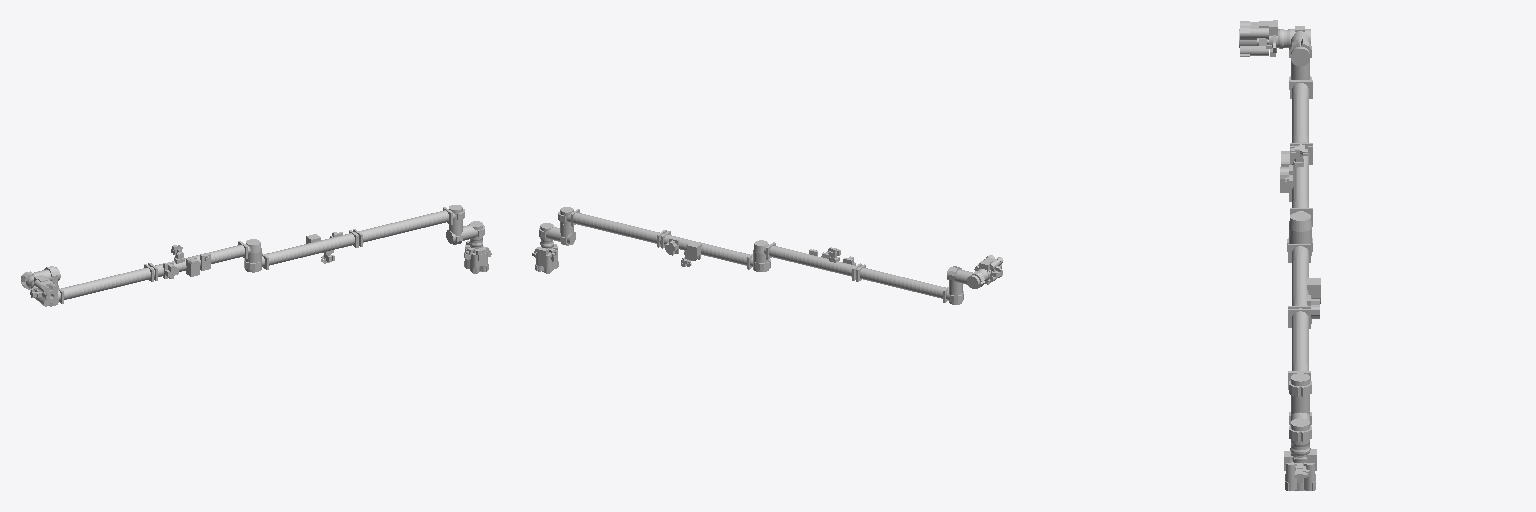
URDF robot description (CanadaArm2):
<?xml version="1.0" ?>
<robot name="CanadaArm2">

<!-- <material name="silver">
  <color rgba="0.700 0.700 0.700 1.000"/>
</material> -->

<link name="base_link">
  <inertial>
    <origin xyz="0.0009130959925412204 0.0006901136348603008 0.048208102763051236" rpy="0 0 0"/>
    <mass value="0.4237059895243373"/>
    <inertia ixx="0.0004092558945447719" iyy="0.00038404682501675465" izz="0.00020498064476976336" ixy="1.0165623829686665e-06" iyz="-4.948051807267175e-06" ixz="5.252636199371172e-06"/>
  </inertial>
  <visual>
    <origin xyz="0 0 0" rpy="0 0 0"/>
    <geometry>
      <mesh filename="package://canadarm2_description/meshes/base_link.dae" scale="0.001 0.001 0.001"/>
    </geometry>
    <!-- <material name="silver"/>
    <material/> -->
  </visual>
  <collision>
    <origin xyz="0 0 0" rpy="0 0 0"/>
    <geometry>
      <mesh filename="package://canadarm2_description/meshes/base_link.dae" scale="0.001 0.001 0.001"/>
    </geometry>
  </collision>
</link>

<link name="link_11">
  <inertial>
    <origin xyz="-0.012022080753456956 4.504438460746928e-06 0.021223287586985842" rpy="0 0 0"/>
    <mass value="0.15579058238581803"/>
    <inertia ixx="3.953363265274531e-05" iyy="8.371424973176991e-05" izz="8.6186782326062e-05" ixy="-1.0861613912698858e-07" iyz="4.379138446979421e-08" ixz="1.0201639682170562e-07"/>
  </inertial>
  <visual>
    <origin xyz="0.0 0.0 -0.109328" rpy="0 0 0"/>
    <geometry>
      <mesh filename="package://canadarm2_description/meshes/link_11.dae" scale="0.001 0.001 0.001"/>
    </geometry>
    <!-- <material name="silver"/>
    <material/> -->
  </visual>
  <collision>
    <origin xyz="0.0 0.0 -0.109328" rpy="0 0 0"/>
    <geometry>
      <mesh filename="package://canadarm2_description/meshes/link_11.dae" scale="0.001 0.001 0.001"/>
    </geometry>
  </collision>
</link>

<link name="link_21">
  <inertial>
    <origin xyz="-0.0212722329621534 -9.563785822951881e-07 0.012022116937095928" rpy="0 0 0"/>
    <mass value="0.15579021759009612"/>
    <inertia ixx="8.648943169675899e-05" iyy="8.429241934648085e-05" izz="3.9871128569710134e-05" ixy="1.9888566181498303e-08" iyz="4.4424194576562314e-09" ixz="-1.110155253675714e-07"/>
  </inertial>
  <visual>
    <origin xyz="0.050762 0.0 -0.130583" rpy="0 0 0"/>
    <geometry>
      <mesh filename="package://canadarm2_description/meshes/link_21.dae" scale="0.001 0.001 0.001"/>
    </geometry>
    <!-- <material name="silver"/>
    <material/> -->
  </visual>
  <collision>
    <origin xyz="0.050762 0.0 -0.130583" rpy="0 0 0"/>
    <geometry>
      <mesh filename="package://canadarm2_description/meshes/link_21.dae" scale="0.001 0.001 0.001"/>
    </geometry>
  </collision>
</link>

<link name="link_31">
  <inertial>
    <origin xyz="-0.3749592721242768 0.002167756136316175 0.020769052806213523" rpy="0 0 0"/>
    <mass value="1.342026213015195"/>
    <inertia ixx="0.0002589122773568181" iyy="0.06733252361597064" izz="0.06717431030885213" ixy="0.00018694044664734608" iyz="4.2211290964140266e-05" ixz="0.00020571069959553212"/>
  </inertial>
  <visual>
    <origin xyz="0.072005 0.0 -0.181344" rpy="0 0 0"/>
    <geometry>
      <mesh filename="package://canadarm2_description/meshes/link_31.dae" scale="0.001 0.001 0.001"/>
    </geometry>
    <!-- <material name="silver"/>
    <material/> -->
  </visual>
  <collision>
    <origin xyz="0.072005 0.0 -0.181344" rpy="0 0 0"/>
    <geometry>
      <mesh filename="package://canadarm2_description/meshes/link_31.dae" scale="0.001 0.001 0.001"/>
    </geometry>
  </collision>
</link>

<link name="link_41">
  <inertial>
    <origin xyz="-0.34102429216742425 -0.0024875618163693954 0.022823592324091285" rpy="0 0 0"/>
    <mass value="1.3047791025053486"/>
    <inertia ixx="0.0005005819746586454" iyy="0.06098802088277111" izz="0.06111706243026238" ixy="0.0003290206609817877" iyz="-1.2463562465362039e-05" ixz="-7.483793257567761e-05"/>
  </inertial>
  <visual>
    <origin xyz="0.775703 -1.6e-05 -0.232005" rpy="0 0 0"/>
    <geometry>
      <mesh filename="package://canadarm2_description/meshes/link_41.dae" scale="0.001 0.001 0.001"/>
    </geometry>
    <!-- <material name="silver"/>
    <material/> -->
  </visual>
  <collision>
    <origin xyz="0.775703 -1.6e-05 -0.232005" rpy="0 0 0"/>
    <geometry>
      <mesh filename="package://canadarm2_description/meshes/link_41.dae" scale="0.001 0.001 0.001"/>
    </geometry>
  </collision>
</link>

<link name="link_51">
  <inertial>
    <origin xyz="2.9454009316642882e-05 -5.2291701487376e-06 0.0387351142341712" rpy="0 0 0"/>
    <mass value="0.15576553227829482"/>
    <inertia ixx="8.227001568061366e-05" iyy="7.603788598981032e-05" izz="3.561108290406345e-05" ixy="2.1739266745471905e-07" iyz="5.310540229706253e-07" ixz="-7.962361346647295e-08"/>
  </inertial>
  <visual>
    <origin xyz="1.479425 -1.6e-05 -0.274942" rpy="0 0 0"/>
    <geometry>
      <mesh filename="package://canadarm2_description/meshes/link_51.dae" scale="0.001 0.001 0.001"/>
    </geometry>
    <!-- <material name="silver"/>
    <material/> -->
  </visual>
  <collision>
    <origin xyz="1.479425 -1.6e-05 -0.274942" rpy="0 0 0"/>
    <geometry>
      <mesh filename="package://canadarm2_description/meshes/link_51.dae" scale="0.001 0.001 0.001"/>
    </geometry>
  </collision>
</link>

<link name="link_61">
  <inertial>
    <origin xyz="-0.03871469375007819 4.616231212433191e-05 2.3531261986620144e-05" rpy="0 0 0"/>
    <mass value="0.15575461112408165"/>
    <inertia ixx="6.80786724601562e-05" iyy="0.00013769812830949357" izz="0.00011250739279045074" ixy="-4.997630556600001e-06" iyz="-4.777732048404048e-06" ixz="-1.2882027089627934e-06"/>
  </inertial>
  <visual>
    <origin xyz="1.500669 -1.6e-05 -0.325704" rpy="0 0 0"/>
    <geometry>
      <mesh filename="package://canadarm2_description/meshes/link_61.dae" scale="0.001 0.001 0.001"/>
    </geometry>
    <!-- <material name="silver"/>
    <material/> -->
  </visual>
  <collision>
    <origin xyz="1.500669 -1.6e-05 -0.325704" rpy="0 0 0"/>
    <geometry>
      <mesh filename="package://canadarm2_description/meshes/link_61.dae" scale="0.001 0.001 0.001"/>
    </geometry>
  </collision>
</link>

<link name="link_71">
  <inertial>
    <origin xyz="-0.0009163908926697051 -0.06112025146618943 0.000688272549077884" rpy="0 0 0"/>
    <mass value="0.4237362876419118"/>
    <inertia ixx="0.0004086266635229194" iyy="0.00020387938058230581" izz="0.0003835310833186778" ixy="-5.194200628555468e-06" iyz="-4.93113862320288e-06" ixz="-1.0191638754875054e-06"/>
  </inertial>
  <visual>
    <origin xyz="1.55143 0.021239 -0.325704" rpy="0 0 0"/>
    <geometry>
      <mesh filename="package://canadarm2_description/meshes/link_71.dae" scale="0.001 0.001 0.001"/>
    </geometry>
    <!-- <material name="silver"/>
    <material/> -->
  </visual>
  <collision>
    <origin xyz="1.55143 0.021239 -0.325704" rpy="0 0 0"/>
    <geometry>
      <mesh filename="package://canadarm2_description/meshes/link_71.dae" scale="0.001 0.001 0.001"/>
    </geometry>
  </collision>
</link>

<joint name="joint_1" type="revolute">
  <origin xyz="0.0 0.0 0.109328" rpy="0 0 0"/>
  <parent link="base_link"/>
  <child link="link_11"/>
  <axis xyz="-0.0 0.0 -1.0"/>
  <limit upper="3.141593" lower="-3.141593" effort="100" velocity="100"/>
</joint>
<transmission name="joint_1_tran">
  <type>transmission_interface/SimpleTransmission</type>
  <joint name="joint_1">
    <hardwareInterface>PositionJointInterface</hardwareInterface>
  </joint>
  <actuator name="joint_1_actr">
    <hardwareInterface>PositionJointInterface</hardwareInterface>
    <mechanicalReduction>1</mechanicalReduction>
  </actuator>
</transmission>

<joint name="joint_2" type="revolute">
  <origin xyz="-0.050762 0.0 0.021255" rpy="0 0 0"/>
  <parent link="link_11"/>
  <child link="link_21"/>
  <axis xyz="-1.0 0.0 0.0"/>
  <limit upper="3.141593" lower="-3.141593" effort="100" velocity="100"/>
</joint>
<transmission name="joint_2_tran">
  <type>transmission_interface/SimpleTransmission</type>
  <joint name="joint_2">
    <hardwareInterface>PositionJointInterface</hardwareInterface>
  </joint>
  <actuator name="joint_2_actr">
    <hardwareInterface>PositionJointInterface</hardwareInterface>
    <mechanicalReduction>1</mechanicalReduction>
  </actuator>
</transmission>

<joint name="joint_3" type="revolute">
  <origin xyz="-0.021243 0.0 0.050761" rpy="0 0 0"/>
  <parent link="link_21"/>
  <child link="link_31"/>
  <axis xyz="0.0 0.0 1.0"/>
  <limit upper="3.141593" lower="-3.141593" effort="100" velocity="100"/>
</joint>
<transmission name="joint_3_tran">
  <type>transmission_interface/SimpleTransmission</type>
  <joint name="joint_3">
    <hardwareInterface>PositionJointInterface</hardwareInterface>
  </joint>
  <actuator name="joint_3_actr">
    <hardwareInterface>PositionJointInterface</hardwareInterface>
    <mechanicalReduction>1</mechanicalReduction>
  </actuator>
</transmission>

<joint name="joint_4" type="revolute">
  <origin xyz="-0.703698 1.6e-05 0.050661" rpy="0 0 0"/>
  <parent link="link_31"/>
  <child link="link_41"/>
  <axis xyz="0.0 0.0 1.0"/>
  <limit upper="3.141593" lower="-3.141593" effort="100" velocity="100"/>
</joint>
<transmission name="joint_4_tran">
  <type>transmission_interface/SimpleTransmission</type>
  <joint name="joint_4">
    <hardwareInterface>PositionJointInterface</hardwareInterface>
  </joint>
  <actuator name="joint_4_actr">
    <hardwareInterface>PositionJointInterface</hardwareInterface>
    <mechanicalReduction>1</mechanicalReduction>
  </actuator>
</transmission>

<joint name="joint_5" type="revolute">
  <origin xyz="-0.703722 0.0 0.042937" rpy="0 0 0"/>
  <parent link="link_41"/>
  <child link="link_51"/>
  <axis xyz="-0.0 0.0 1.0"/>
  <limit upper="3.141593" lower="-3.141593" effort="100" velocity="100"/>
</joint>
<transmission name="joint_5_tran">
  <type>transmission_interface/SimpleTransmission</type>
  <joint name="joint_5">
    <hardwareInterface>PositionJointInterface</hardwareInterface>
  </joint>
  <actuator name="joint_5_actr">
    <hardwareInterface>PositionJointInterface</hardwareInterface>
    <mechanicalReduction>1</mechanicalReduction>
  </actuator>
</transmission>

<joint name="joint_6" type="revolute">
  <origin xyz="-0.021244 0.0 0.050762" rpy="0 0 0"/>
  <parent link="link_51"/>
  <child link="link_61"/>
  <axis xyz="-1.0 -0.0 0.0"/>
  <limit upper="3.141593" lower="-3.141593" effort="100" velocity="100"/>
</joint>
<transmission name="joint_6_tran">
  <type>transmission_interface/SimpleTransmission</type>
  <joint name="joint_6">
    <hardwareInterface>PositionJointInterface</hardwareInterface>
  </joint>
  <actuator name="joint_6_actr">
    <hardwareInterface>PositionJointInterface</hardwareInterface>
    <mechanicalReduction>1</mechanicalReduction>
  </actuator>
</transmission>

<joint name="joint_7" type="revolute">
  <origin xyz="-0.050761 -0.021255 0.0" rpy="0 0 0"/>
  <parent link="link_61"/>
  <child link="link_71"/>
  <axis xyz="0.0 -1.0 0.0"/>
  <limit upper="3.141593" lower="-3.141593" effort="100" velocity="100"/>
</joint>
<transmission name="joint_7_tran">
  <type>transmission_interface/SimpleTransmission</type>
  <joint name="joint_7">
    <hardwareInterface>PositionJointInterface</hardwareInterface>
  </joint>
  <actuator name="joint_7_actr">
    <hardwareInterface>PositionJointInterface</hardwareInterface>
    <mechanicalReduction>1</mechanicalReduction>
  </actuator>
</transmission>

</robot>

--- Facts derived from the render (not from the file) ---
Views: 3 orthographic renders of the robot side by side, from view 1: azimuth 30°, elevation 25°; view 2: azimuth 150°, elevation 25°; view 3: azimuth 270°, elevation 25°.
Model CanadaArm2 with 8 links and 7 joints (7 revolute), rooted at base_link, posed all joints at 0.
Visible links, largest first — view 1: link_31, link_41, base_link, link_71; view 2: link_31, link_41, base_link, link_71; view 3: link_31, link_41, link_71, base_link, link_51, link_11.
Link boxes in pixels (<box>): link_31: <box>244,205,464,272</box>; link_41: <box>49,239,261,306</box>; base_link: <box>464,238,491,273</box>; link_71: <box>28,275,58,306</box>; link_31: <box>558,207,770,271</box>; link_41: <box>753,240,963,304</box>; base_link: <box>532,238,558,273</box>; link_71: <box>974,255,1002,284</box>; link_31: <box>1287,235,1320,399</box>; link_41: <box>1280,76,1312,238</box>; link_71: <box>1239,20,1289,56</box>; base_link: <box>1284,442,1316,490</box>; link_51: <box>1289,39,1311,78</box>; link_11: <box>1289,413,1311,444</box>.
Size in the robot's own frame: 1.64 by 0.1743 by 0.3617 metres.
8 mesh visuals loaded from 8 distinct referenced files (8 Collada DAE).